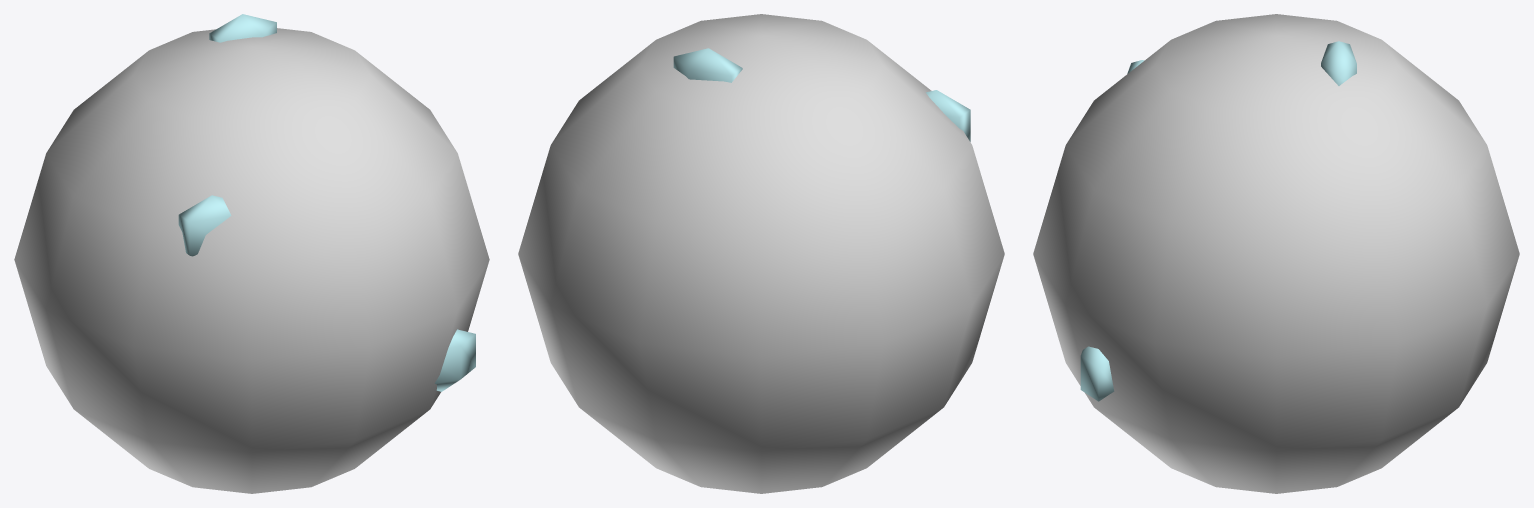
File: rolling_snowball.glb
3 renders of one model, left to right at view 1: azimuth 30°, elevation 25°; view 2: azimuth 150°, elevation 25°; view 3: azimuth 270°, elevation 25°, orthographic. The views are drawn at different scales.
Parts seen in each view (by area): view 1: Prop_rolling_snowball; view 2: Prop_rolling_snowball; view 3: Prop_rolling_snowball.
Part boxes in pixels (x1=…): Prop_rolling_snowball: x1=14, y1=14, x2=489, y2=493; Prop_rolling_snowball: x1=518, y1=14, x2=1004, y2=493; Prop_rolling_snowball: x1=1033, y1=14, x2=1519, y2=493.
Size of the model in its own units: 1.56 by 1.56 by 1.56.
